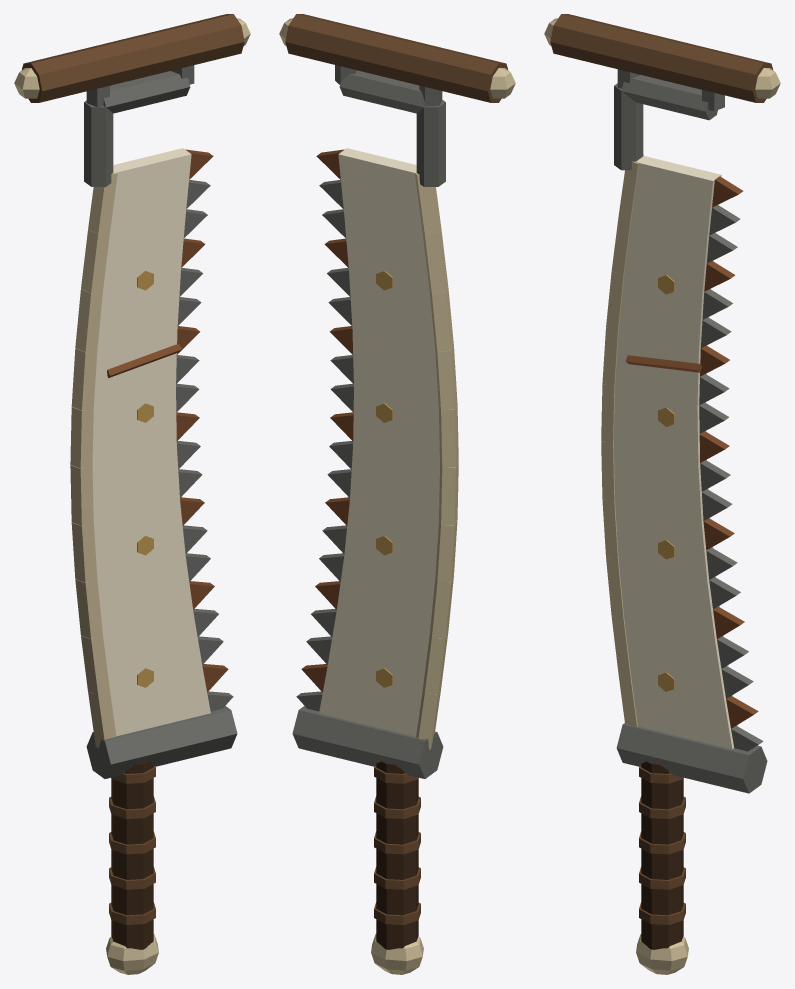
Rendered from varga_tusk_saw.glb.
The picture shows the model from 3 angles, left to right: view 1: azimuth 30°, elevation 25°; view 2: azimuth 150°, elevation 25°; view 3: azimuth 330°, elevation 25°; orthographic projection.
Parts seen in each view (by area): view 1: varga_tusk_saw; view 2: varga_tusk_saw; view 3: varga_tusk_saw.
Boxes of the visible parts, left/top/right/bottom form: varga_tusk_saw: left=14, top=14, right=250, bottom=974; varga_tusk_saw: left=279, top=14, right=515, bottom=974; varga_tusk_saw: left=544, top=14, right=780, bottom=974.
Bounding box in the file's own units: 0.5406 × 2.11 × 0.1.
